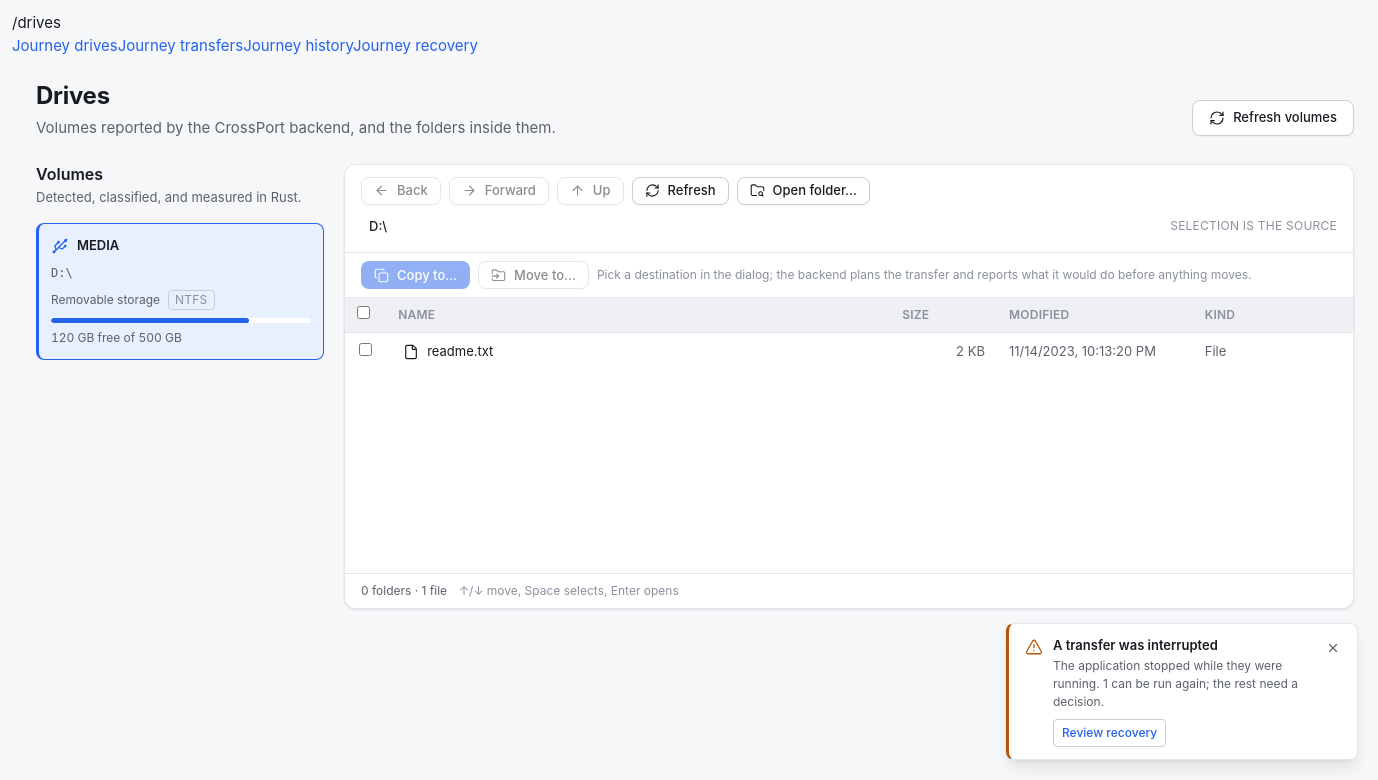
Test case: journeys › turns an interrupted job into a decision instead of a completion
Expected: the text "A transfer was interrupted" shows "The application stopped while they were running.", [1053, 658, 1298, 709]
Click the button "Review recovery": (1110, 733) [1053, 719, 1166, 747]
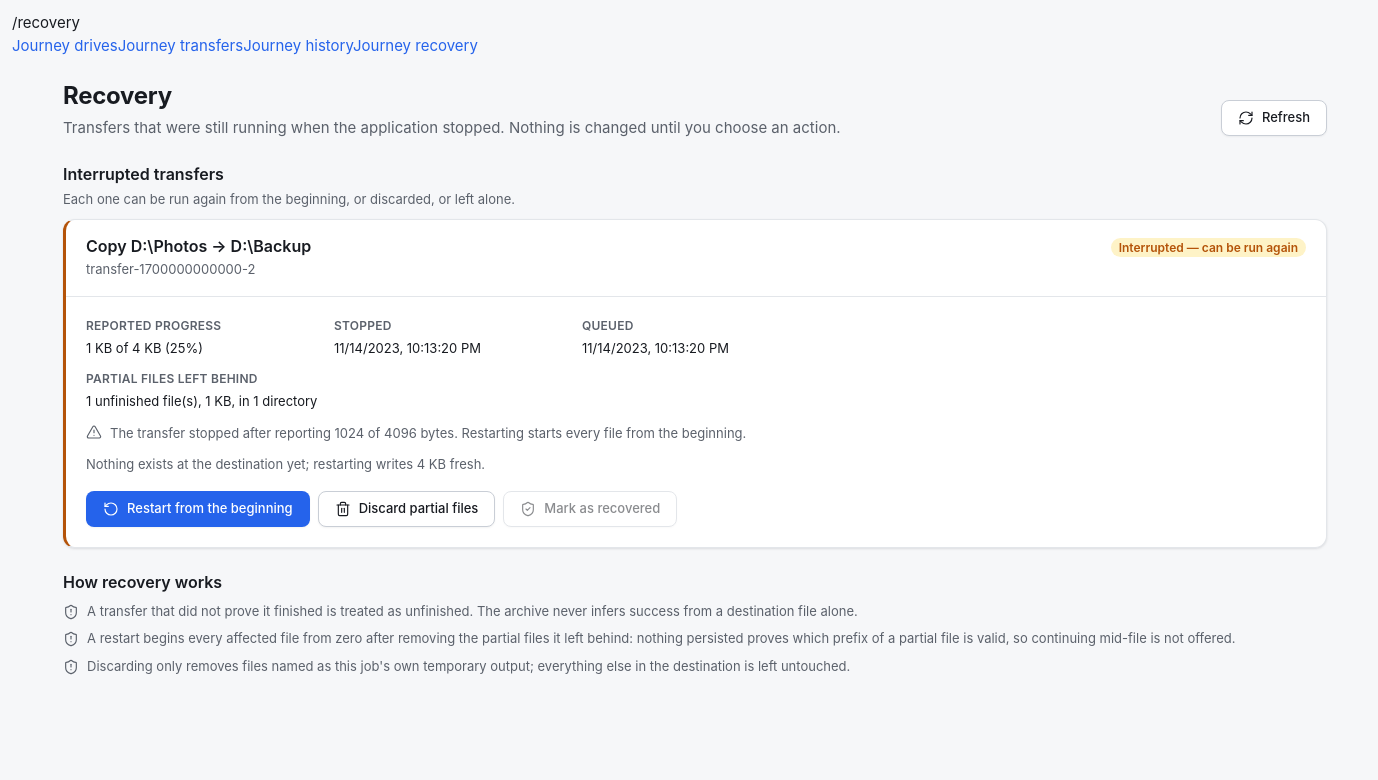
Expected: the text with test id "location" reads "/recovery", [12, 13, 80, 32]
Expected: the text "A transfer was interrupted" is gone
Expected: the list shows "The transfer stopped after reporting 1024 of 4096 bytes.", [110, 424, 746, 440]
